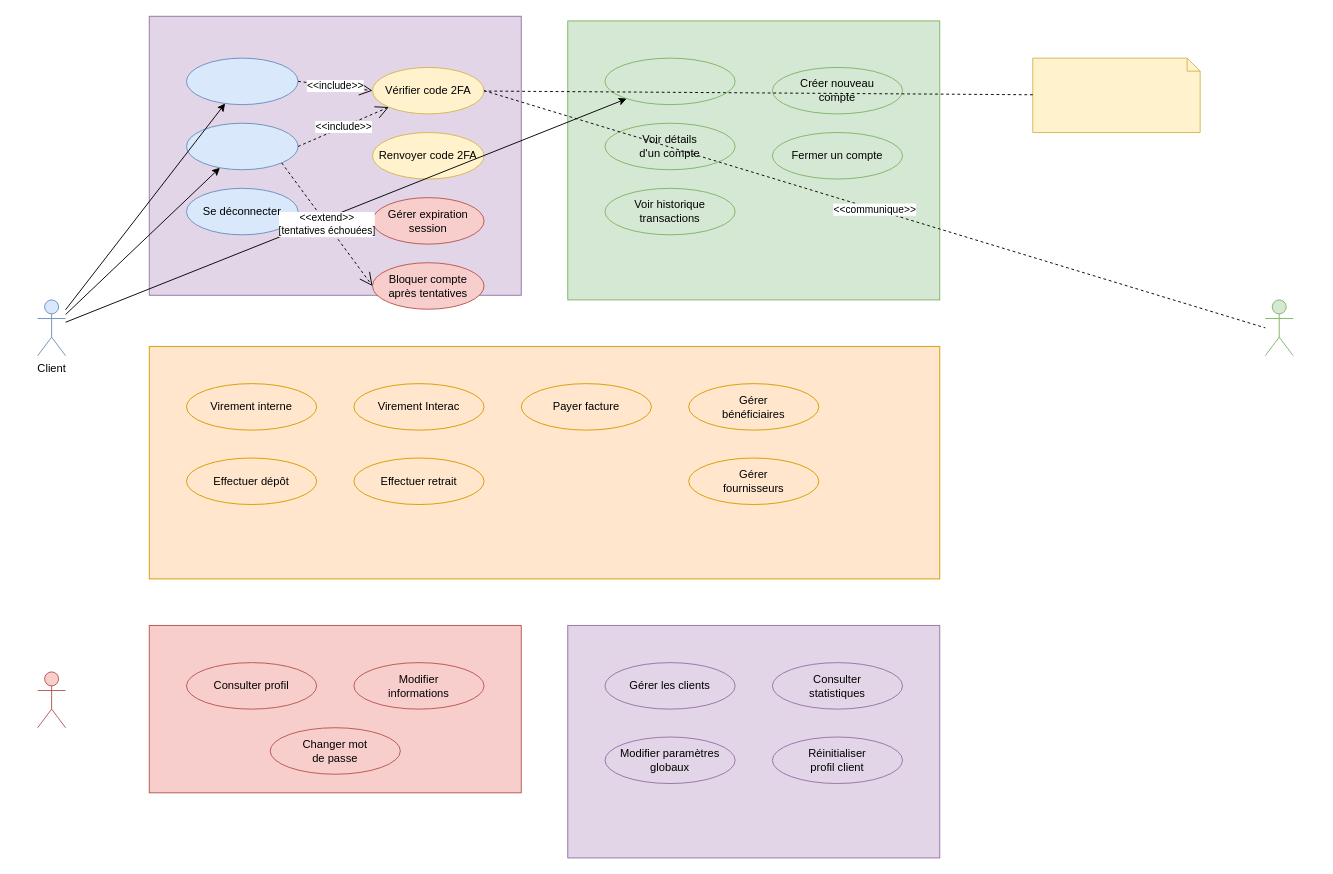
This 1333x874 diagram has some shape labels left out. The shapes that lost their labels are listed below. From the top down, each one's box as (x1, y1, x2, y2) in pixels, then its label:
(186, 57, 298, 105): S'inscrire
(604, 57, 735, 105): Consulter tableau de bord
(1032, 57, 1200, 133): Code 6 chiffres Valide 10 minutes Envoi par email
(186, 122, 298, 170): Se connecter
(148, 15, 521, 295): Authentification & Sécurité
(567, 20, 940, 300): Gestion des Comptes
(1264, 299, 1293, 356): Système Email
(148, 345, 940, 579): Opérations Bancaires
(37, 671, 66, 728): Administrateur
(148, 624, 521, 793): Gestion du Profil
(567, 624, 940, 858): Administration
